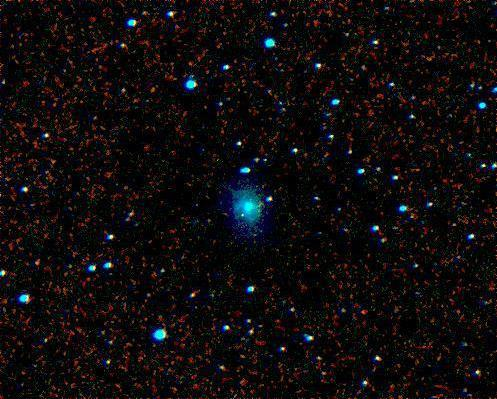star: (228, 200, 258, 230)
